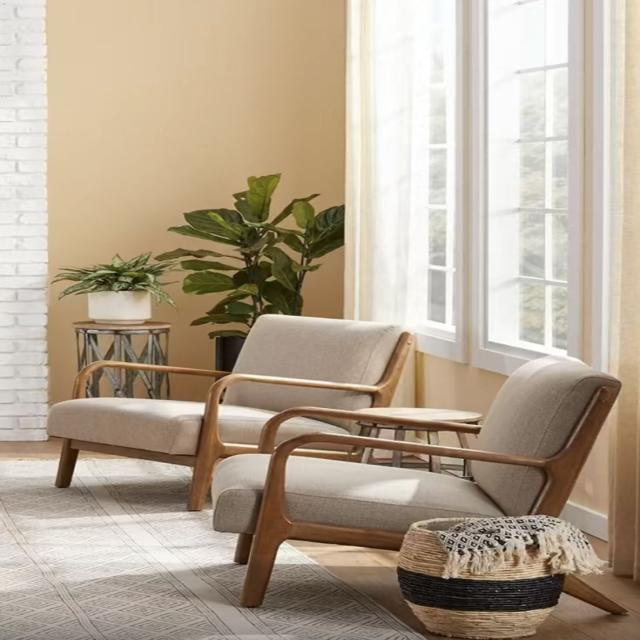obstacle: (211, 353, 628, 614), (46, 313, 416, 511), (351, 406, 482, 478), (70, 320, 172, 399)
